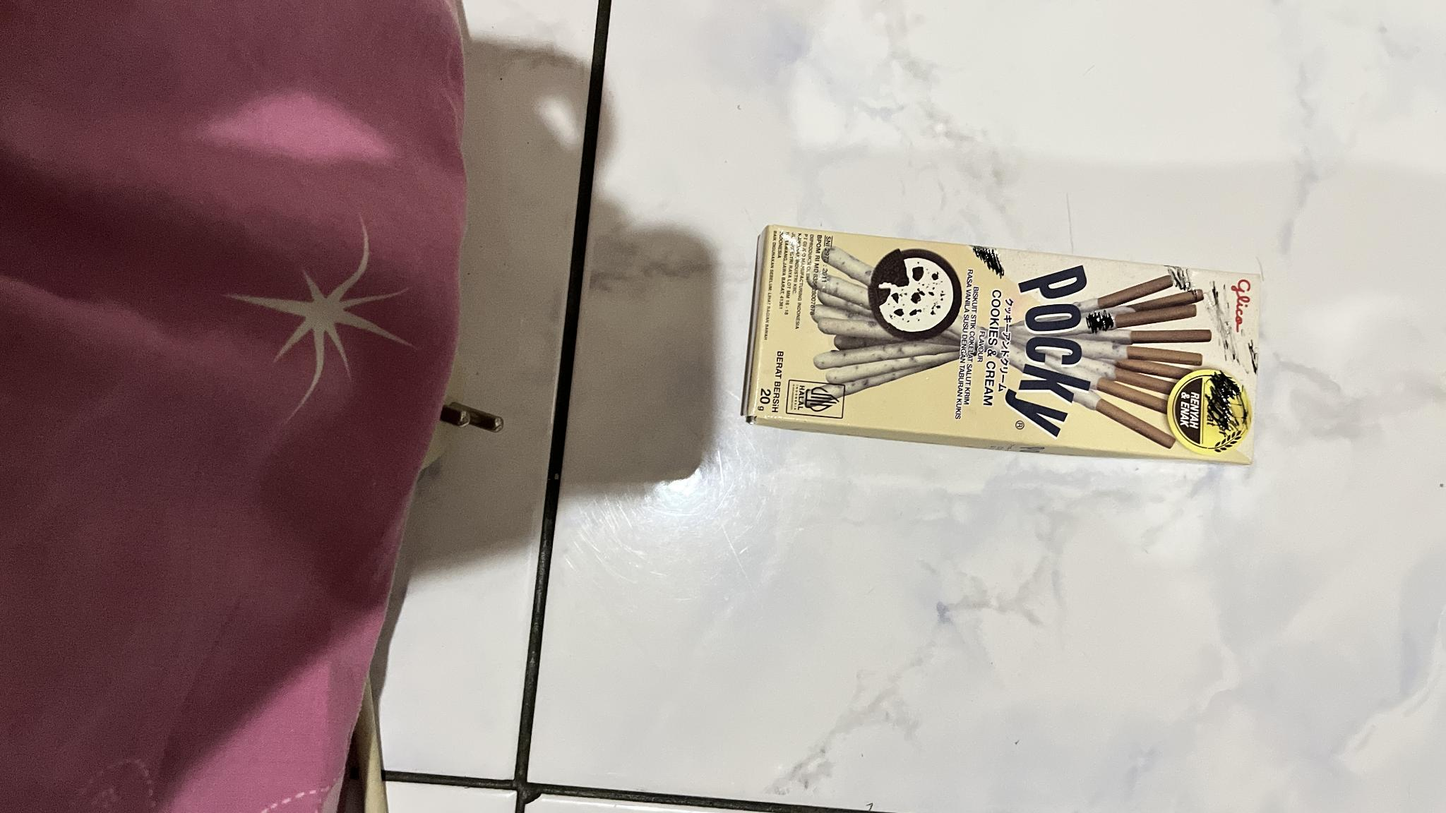Kertas: (739, 222, 1264, 464)
